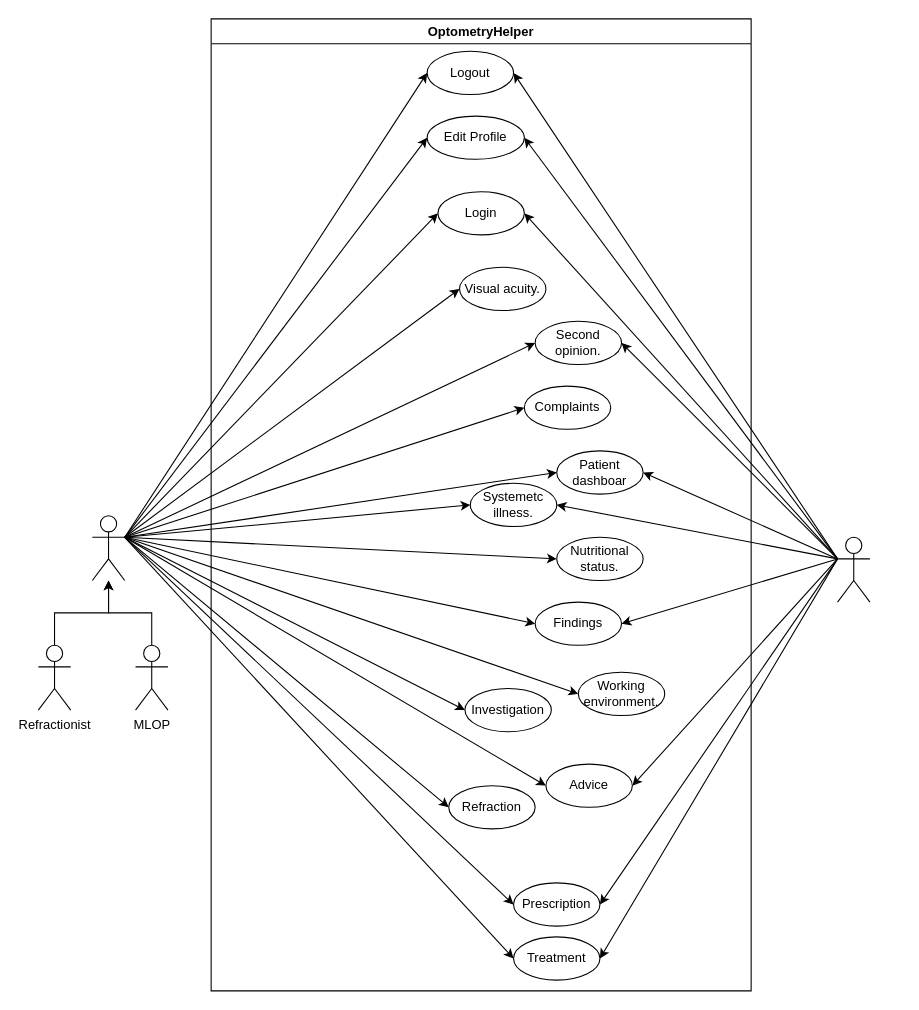
This 919x1010 diagram has some shape labels left out. The shapes that lost their labels are listed below. From the top down, each one's box as (x1, y1, x2, y2) in pixels, then its label:
(91, 515, 125, 580): Optometrists
(836, 536, 870, 602): Ophthalmologist
